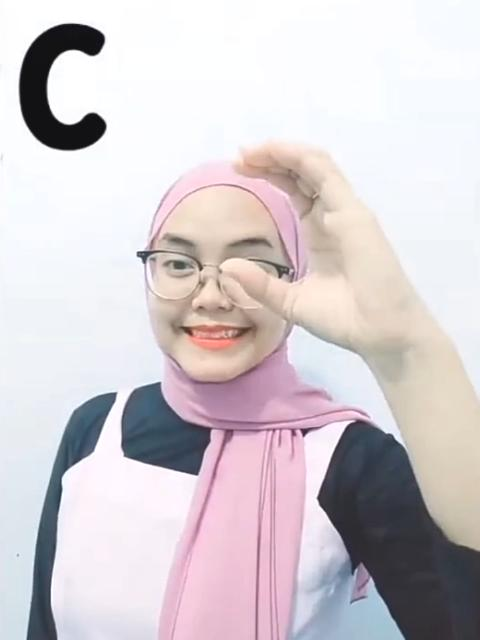C: (214, 136, 440, 362)
